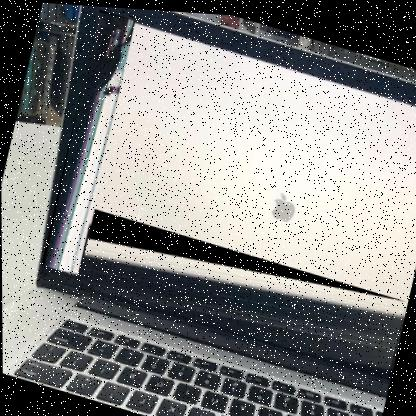crack: (38, 5, 137, 279)
lines: (75, 207, 407, 374), (55, 6, 134, 207)
